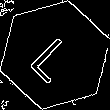L_NE: (26, 26, 84, 84)
